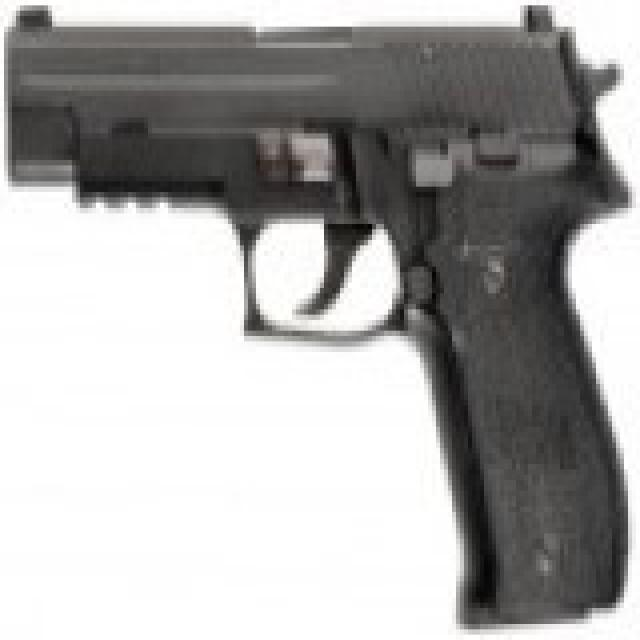Gun: (6, 8, 634, 597)
